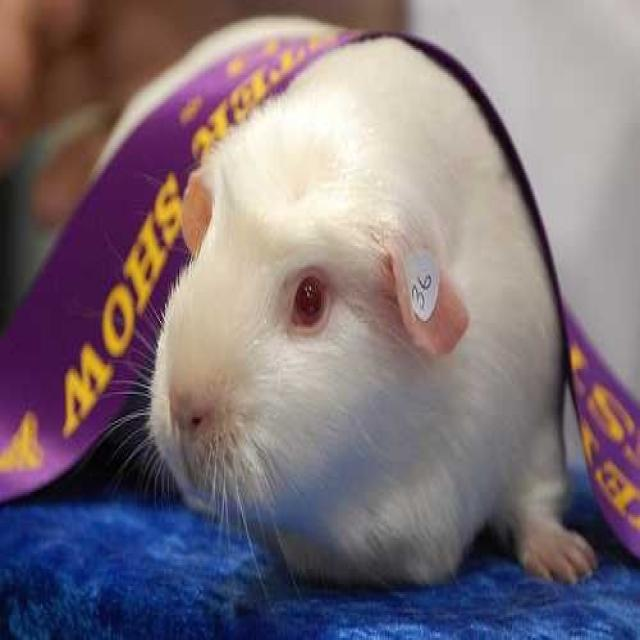guinea pig: (76, 20, 600, 587)
